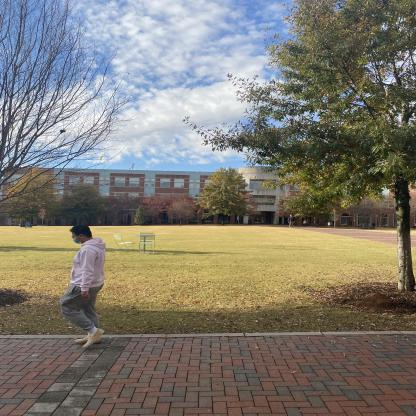EB-1: (3, 158, 416, 233)
